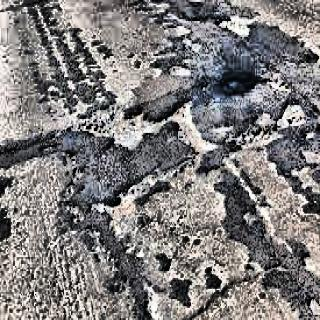crack: (185, 251, 287, 320)
pothole: (87, 95, 172, 160), (202, 113, 278, 165), (255, 188, 320, 236), (227, 151, 294, 196), (174, 98, 218, 158), (215, 8, 264, 44), (284, 85, 310, 139), (266, 61, 285, 101)
